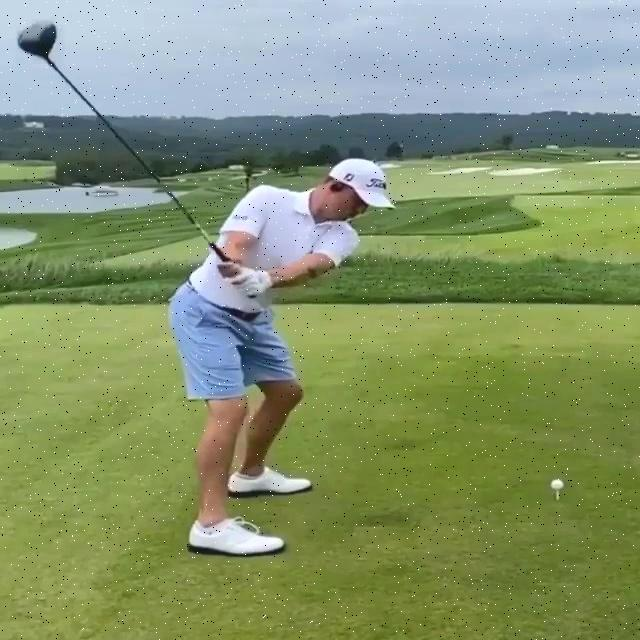golf ball: (551, 479, 565, 490)
golf club-handle: (14, 18, 261, 300)
golf club-head: (18, 21, 56, 58)
